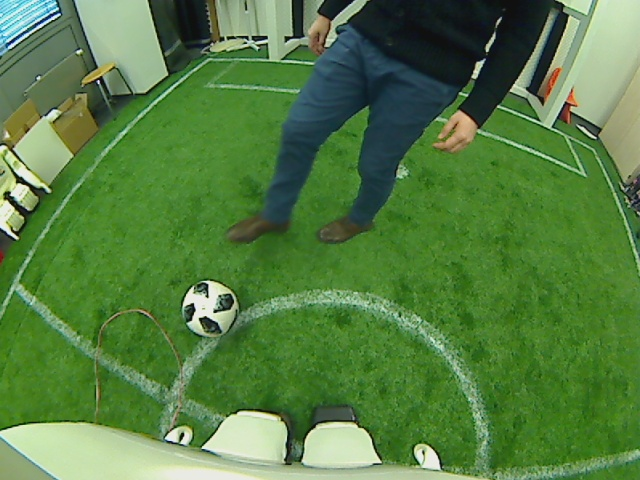ball: (179, 277, 239, 339)
